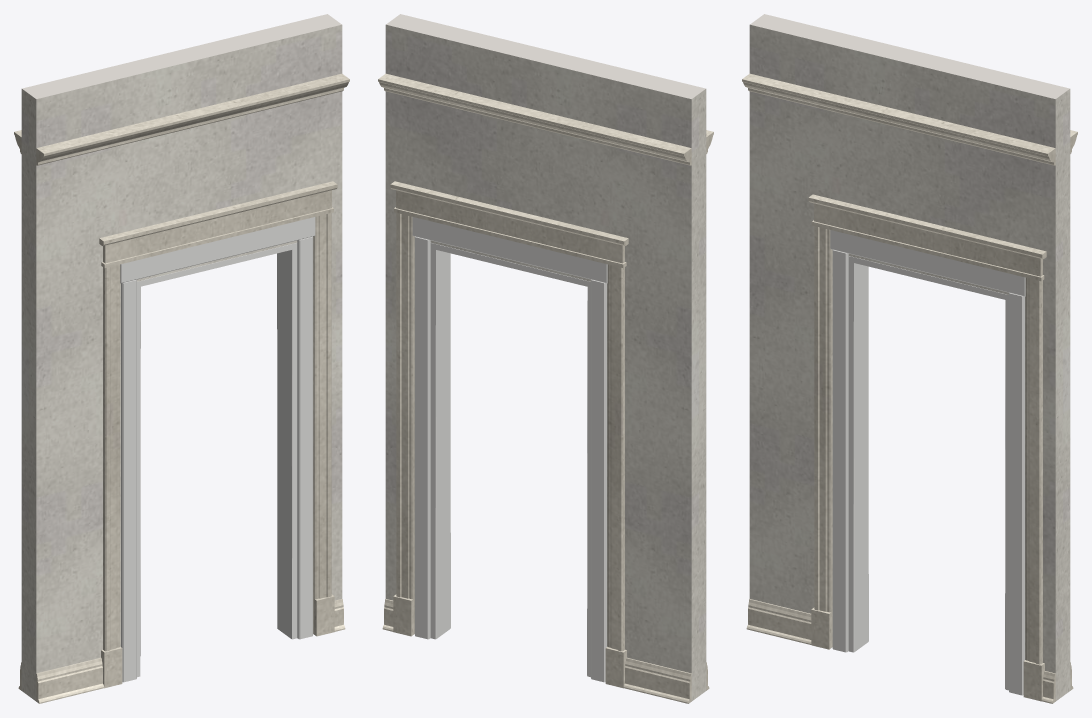
Rendered from iw1_end_doorway.glb.
The picture shows the model from 3 angles, left to right: view 1: azimuth 30°, elevation 25°; view 2: azimuth 150°, elevation 25°; view 3: azimuth 330°, elevation 25°; orthographic projection.
Visible parts, largest first — view 1: iw1_end_doorway_plaster, molduras, iw1_end_doorway_frame; view 2: iw1_end_doorway_plaster, molduras, iw1_end_doorway_frame; view 3: iw1_end_doorway_plaster, molduras, iw1_end_doorway_frame.
Part boxes in pixels (x1,y1,x2,y2): iw1_end_doorway_plaster: (21, 14, 342, 701); molduras: (14, 73, 349, 703); iw1_end_doorway_frame: (120, 217, 315, 682); iw1_end_doorway_plaster: (385, 14, 706, 701); molduras: (378, 73, 713, 703); iw1_end_doorway_frame: (412, 217, 607, 682); iw1_end_doorway_plaster: (749, 14, 1070, 701); molduras: (742, 73, 1077, 703); iw1_end_doorway_frame: (830, 230, 1025, 695).
Size of the model in its own units: 1.7 by 3.2 by 0.29.
Materials: 3 (2 with a texture image).
